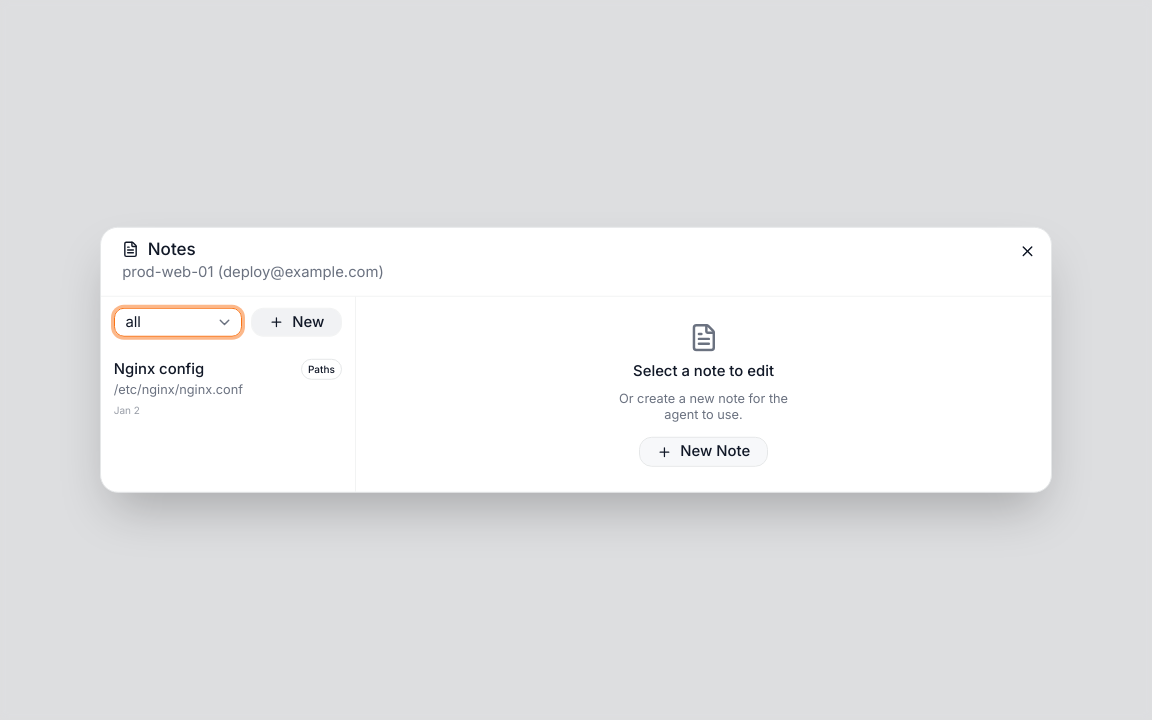
Scenario: MachineNotesDialog › deletes a note after confirmation and refreshes the list
Click the button "Nginx config Paths /etc/nginx/nginx.conf Jan 2": coordinates (228, 388) [101,348,355,428]
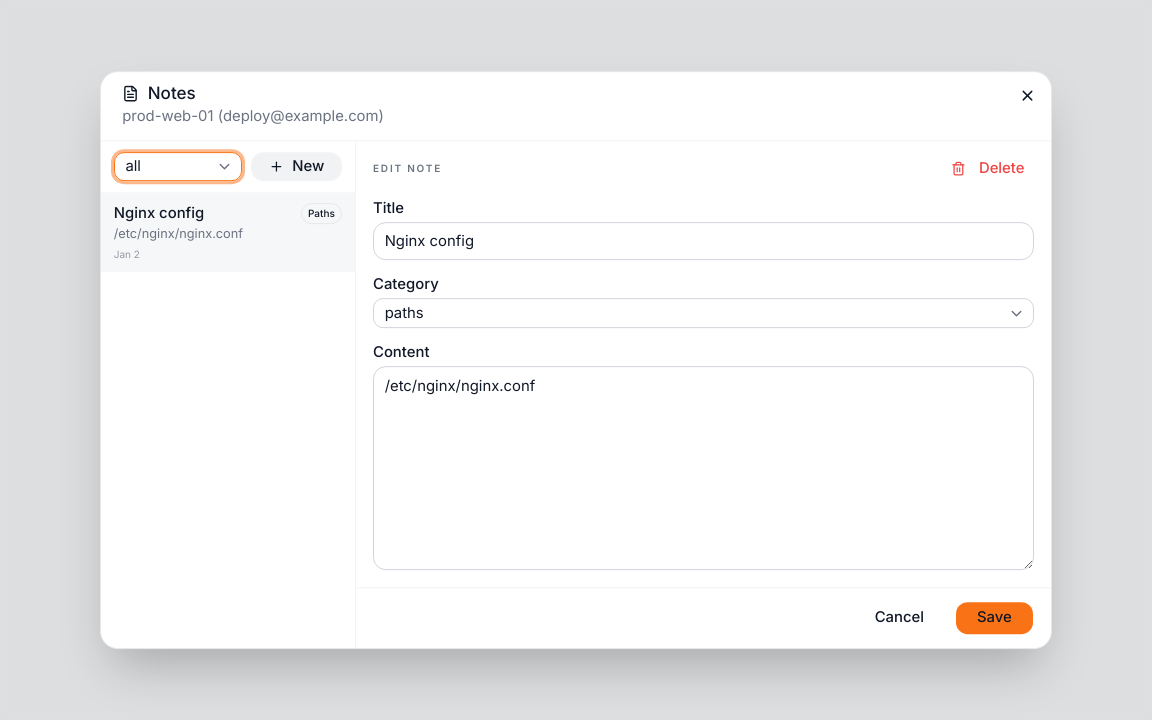
Click the button "Delete": coordinates (988, 169) [942,154,1034,184]
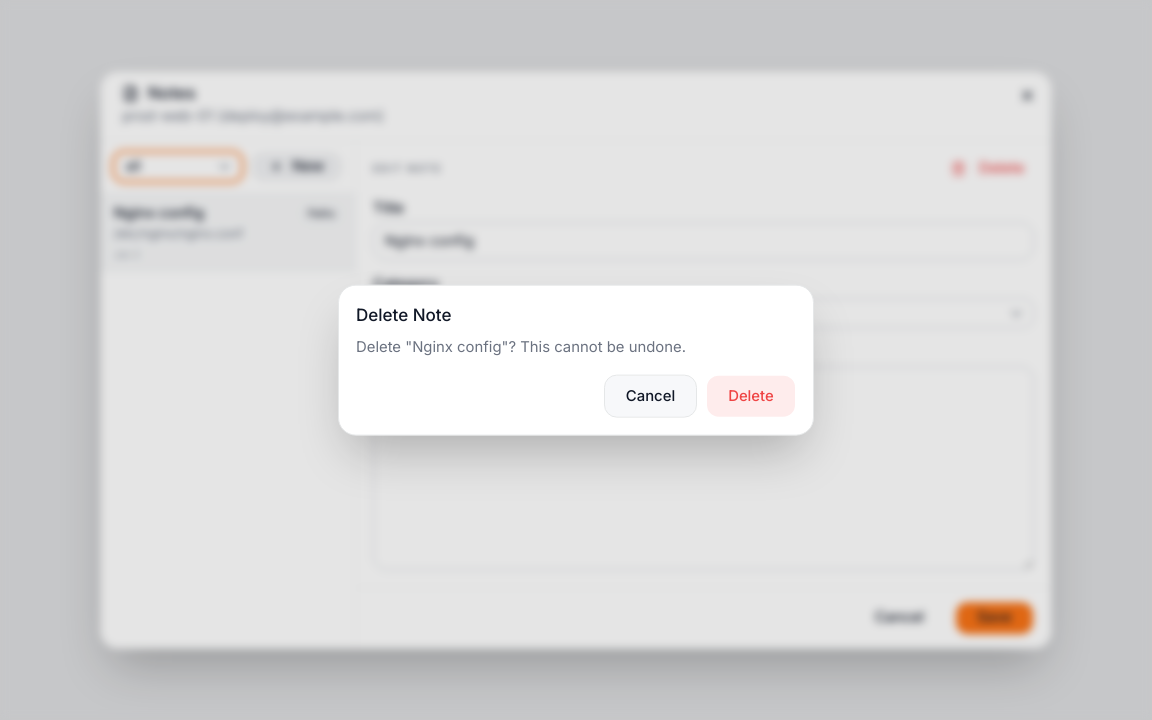
Note: Confirm inside the alert dialog
Click the button "Delete": coordinates (751, 396) [706,375,796,417]
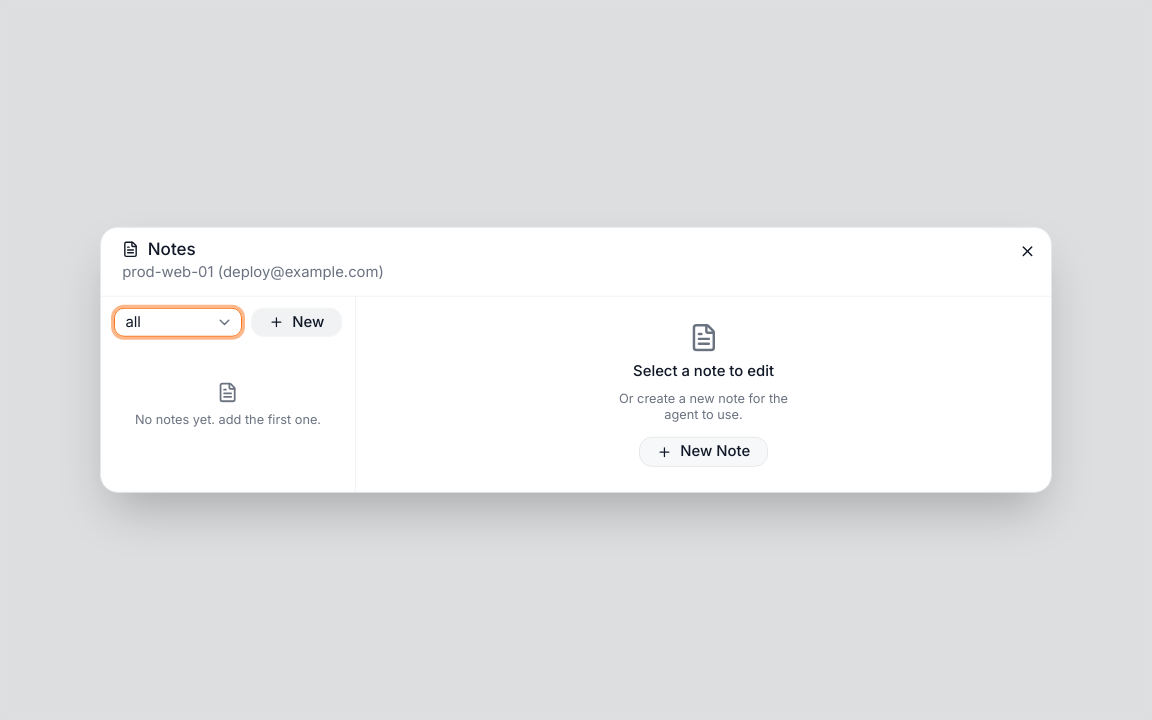
Check: the text "No notes yet. add the first one." is shown, box [135,412,321,428]
